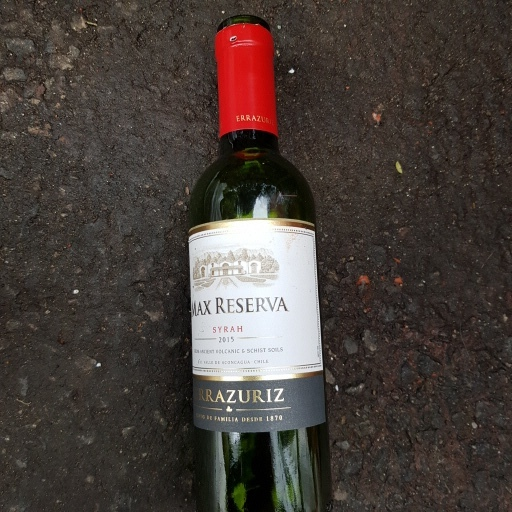Glass_2: (181, 11, 333, 512)
